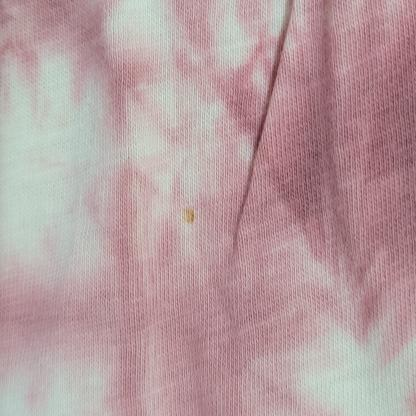spot: (180, 202, 198, 224)
